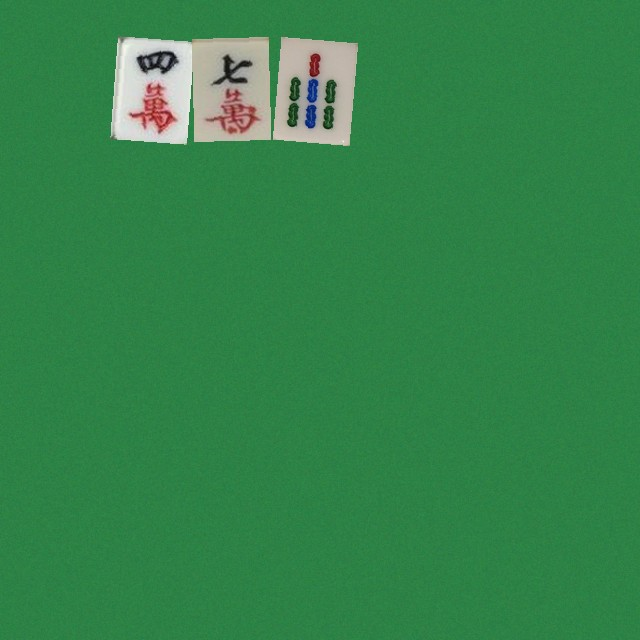tile: (110, 36, 187, 139), (191, 36, 268, 139), (272, 36, 349, 139)
